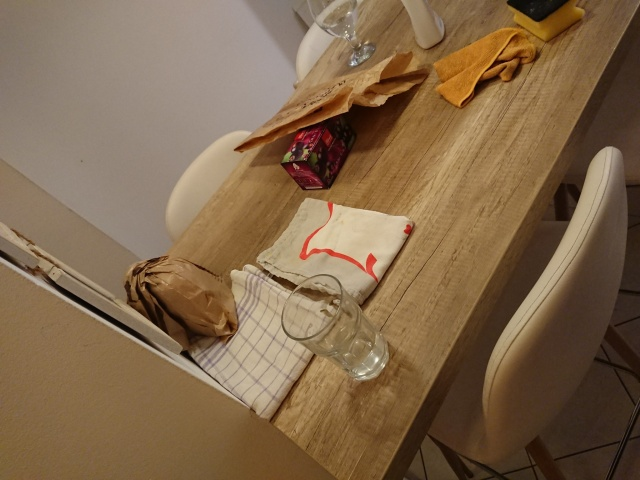Franck Black Currant Tea 60g: (278, 112, 359, 192)
